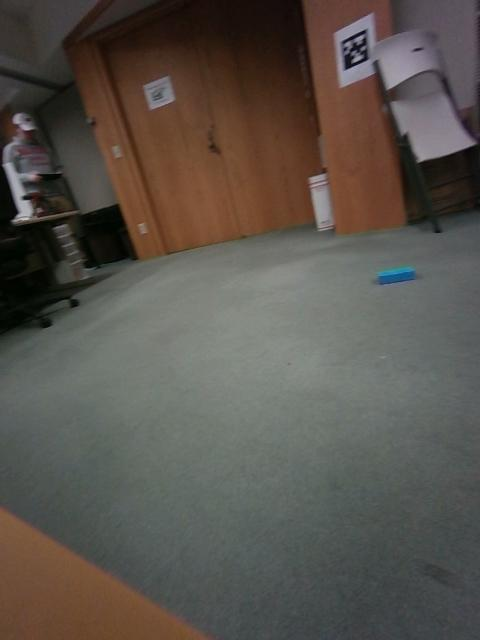block: (176, 338, 235, 408)
